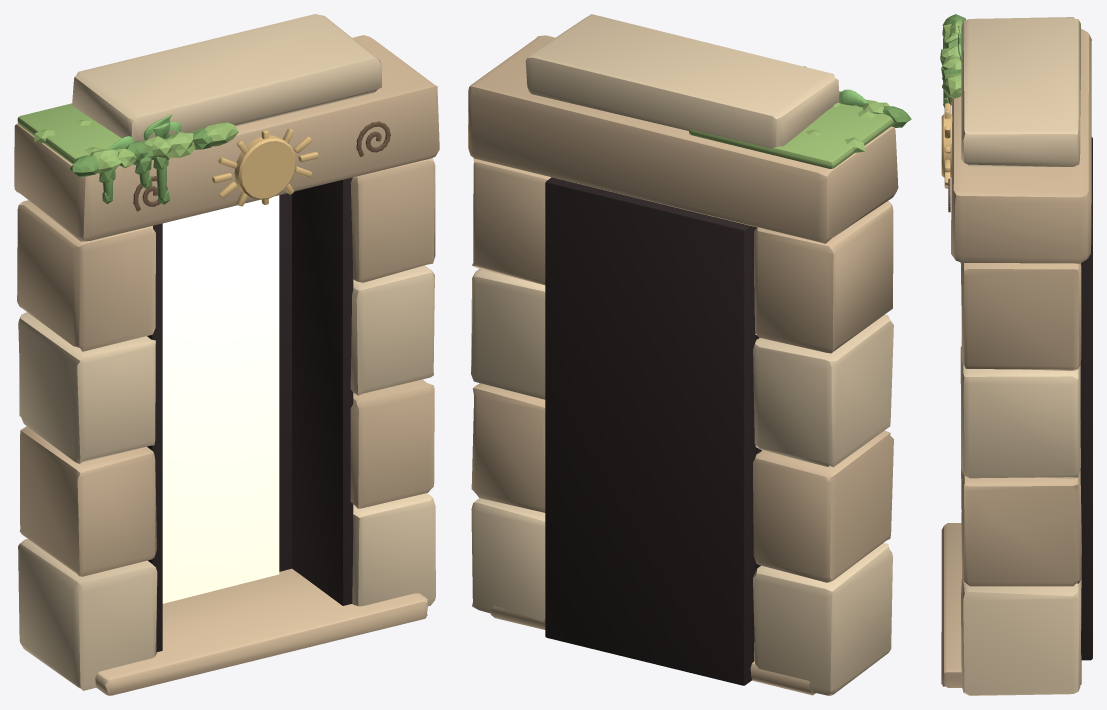
Rendered from exit_door.glb.
3 views of the same model, side by side, from view 1: azimuth 30°, elevation 25°; view 2: azimuth 150°, elevation 25°; view 3: azimuth 270°, elevation 25° (orthographic). The views are drawn at different scales.
Parts seen in each view (by area): view 1: exit_door; view 2: exit_door; view 3: exit_door.
Boxes of the visible parts, x1,y1,x2,y2 form: exit_door: (14, 14, 439, 695); exit_door: (468, 14, 911, 695); exit_door: (940, 14, 1092, 695).
Bounding box in the file's own units: 2.07 × 3.01 × 0.7678.
